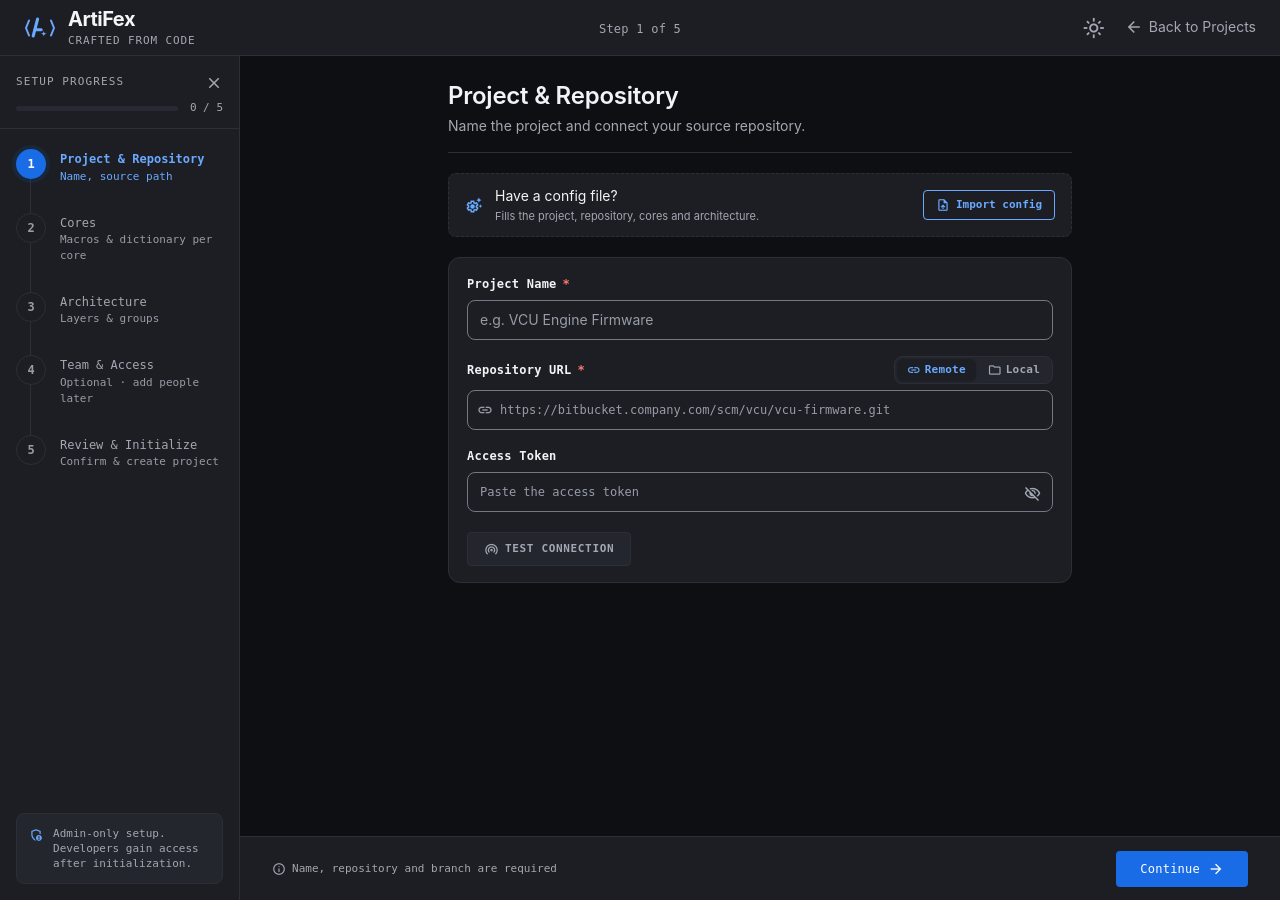
Step 1: Remote | Local › a missing folder says "Enter the repository folder"
The width and height of the screenshot is (1280, 900).
Click the radio button labelled "Local".
click(1014, 370)  # box [978,359,1050,381]
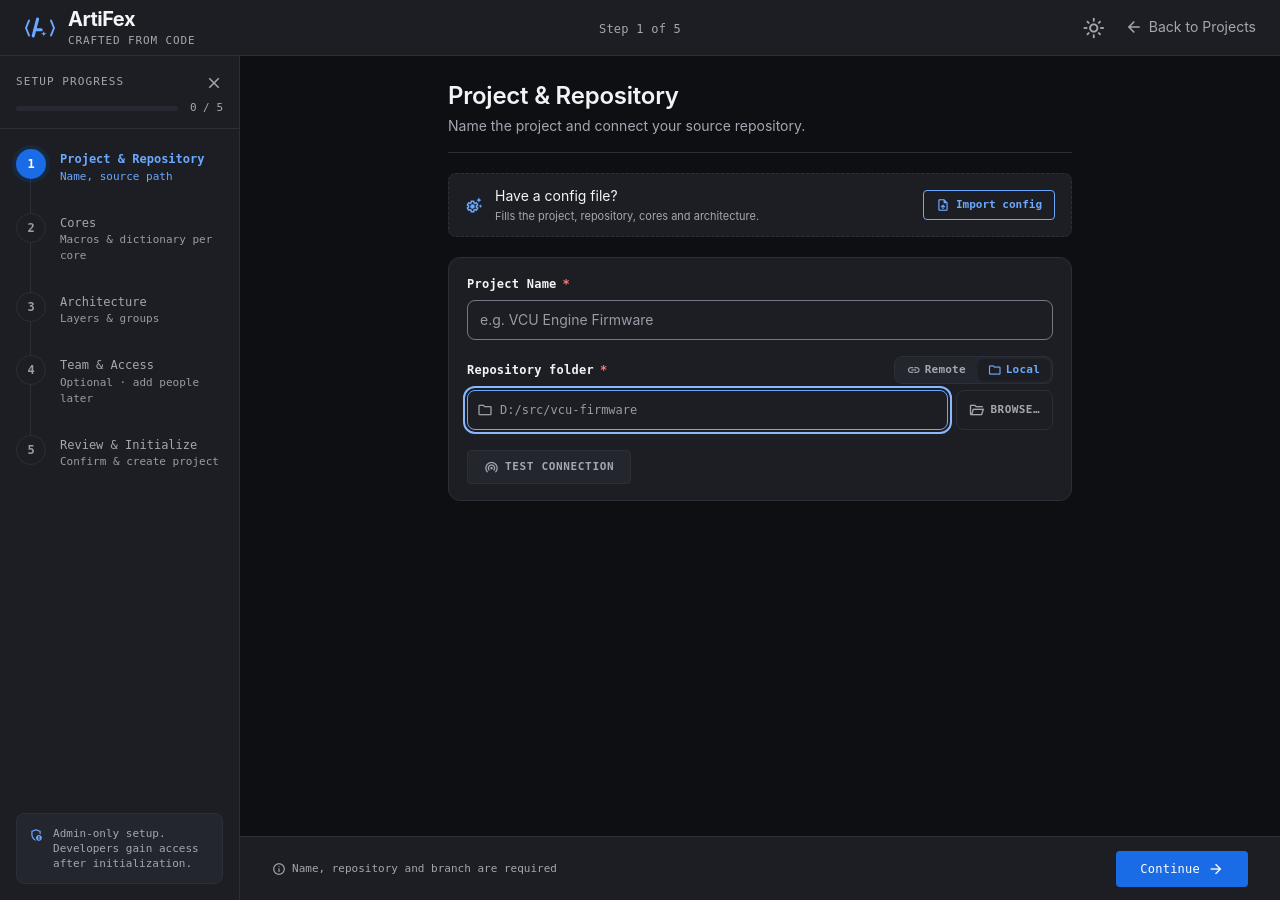
Type "Brake ECU" into the field with placeholder "e.g. VCU Engine Firmware".
click(760, 320); type("Brake ECU")  # box [467,300,1053,340]
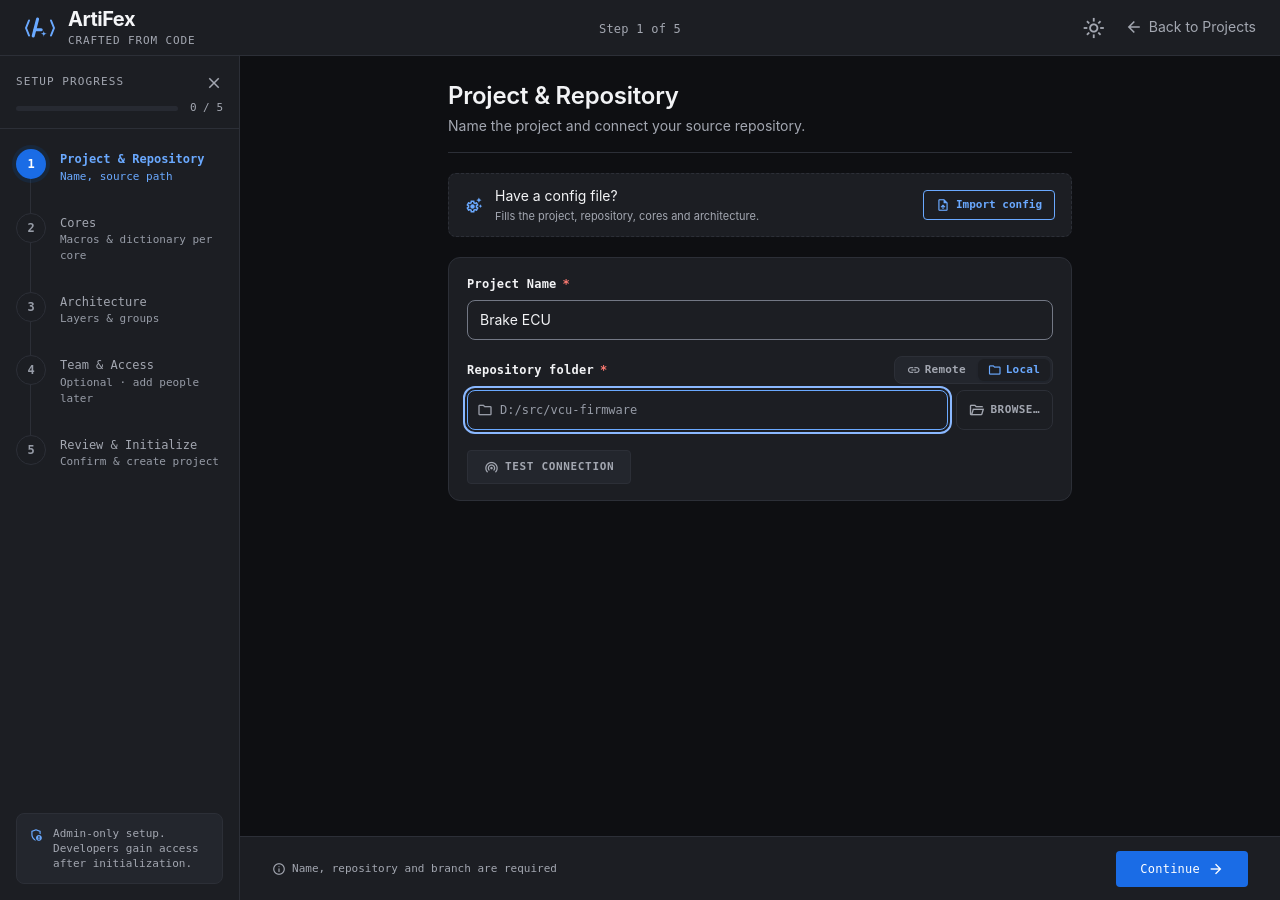
Click the button "Continue".
click(1182, 868)  # box [1116,850,1248,886]
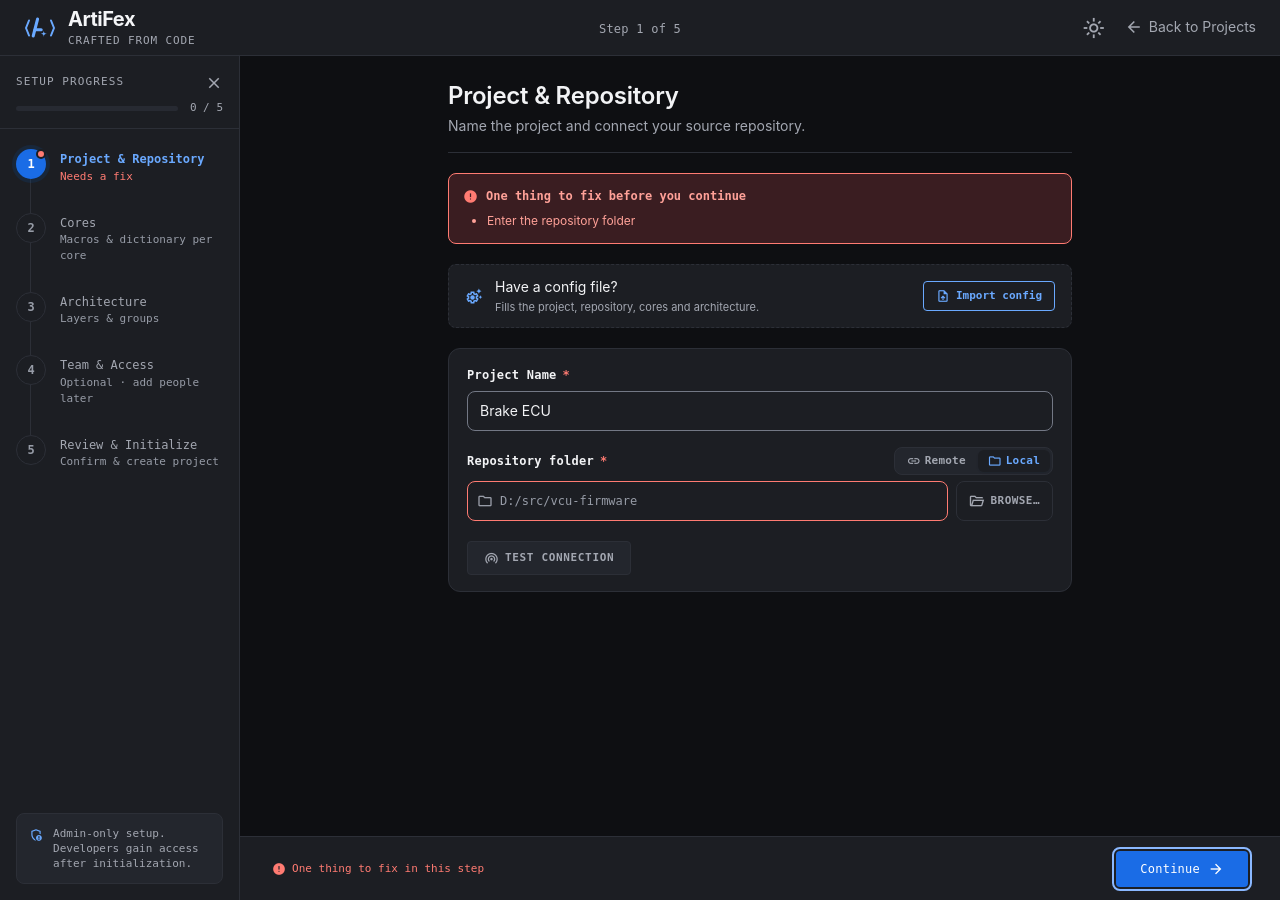
Expected: the list item "Enter the repository folder" is shown, [487,213,635,228]
